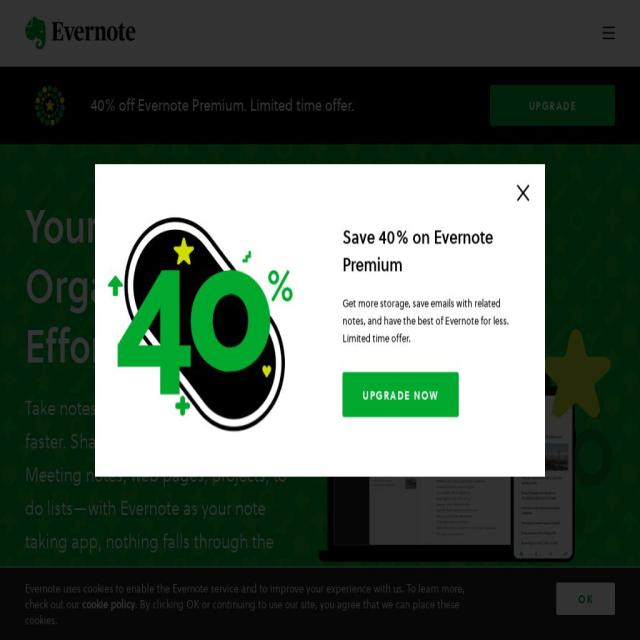button: (342, 372, 458, 418), (490, 85, 615, 126), (25, 17, 136, 50), (25, 620, 175, 640), (556, 583, 615, 615), (603, 25, 615, 42)
heading: (25, 391, 294, 591), (25, 194, 294, 374), (342, 222, 522, 278)
image: (0, 0, 640, 640), (318, 329, 612, 563), (95, 170, 320, 470), (25, 17, 136, 50), (34, 85, 66, 126), (517, 184, 529, 202), (603, 26, 615, 39)
link: (82, 596, 135, 612)
text: (25, 580, 465, 612), (25, 596, 459, 627), (342, 294, 522, 348), (90, 96, 484, 113)
